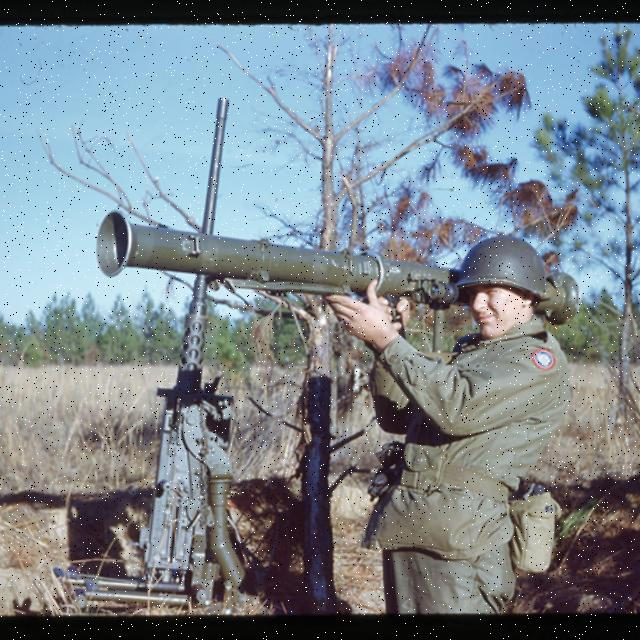bazooka: (92, 209, 590, 338)
